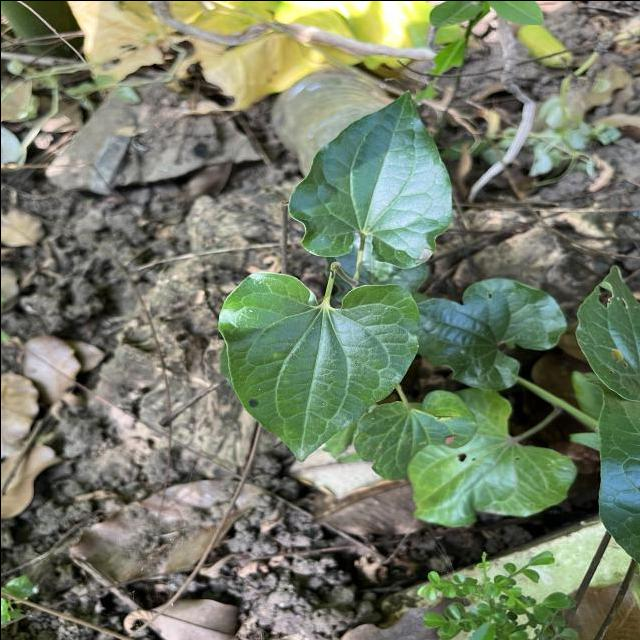Piper longum: (215, 268, 421, 464), (284, 88, 454, 270)
